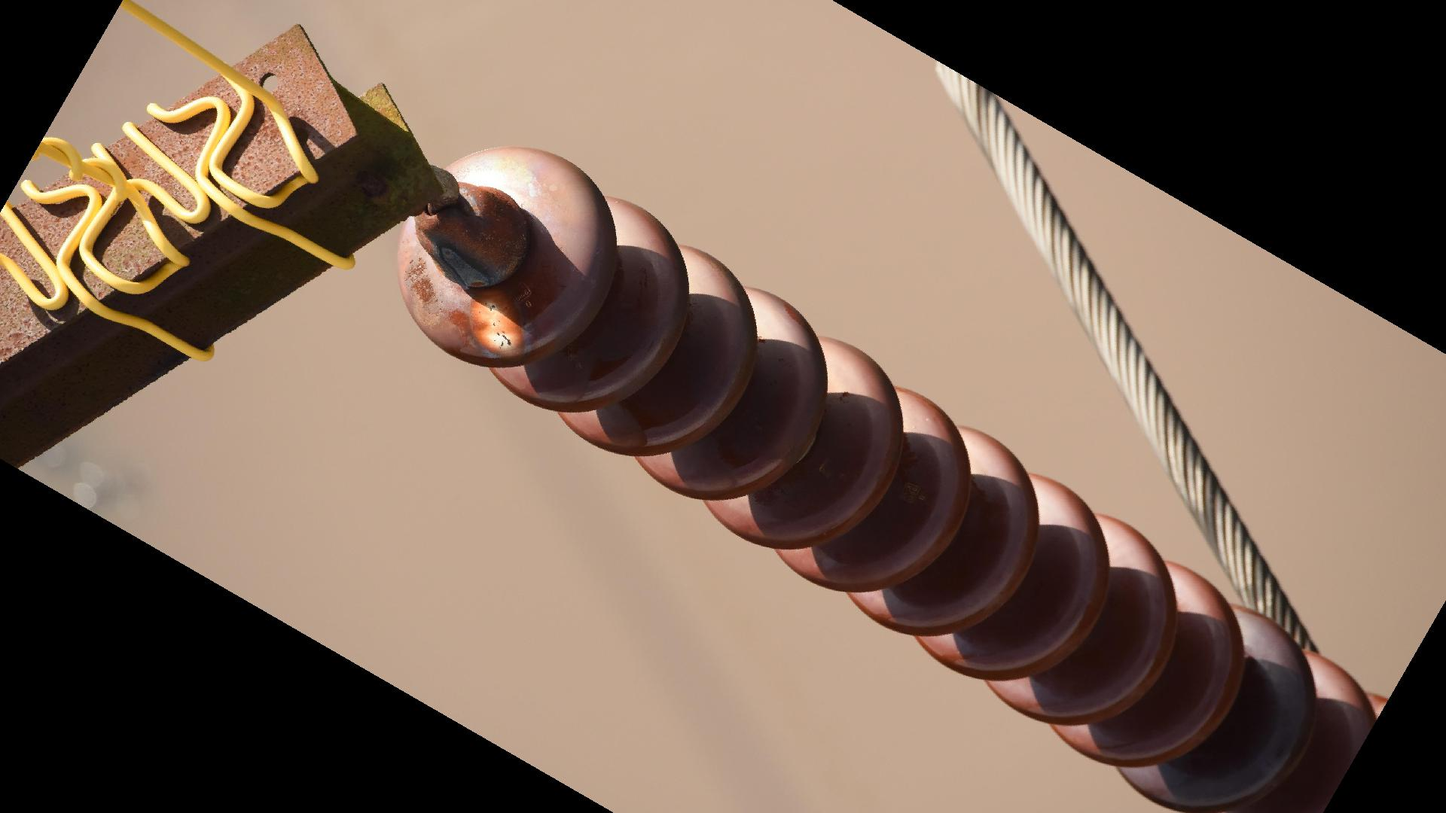insulator: (389, 141, 1390, 813)
insulator_flashover: (465, 285, 529, 362)
